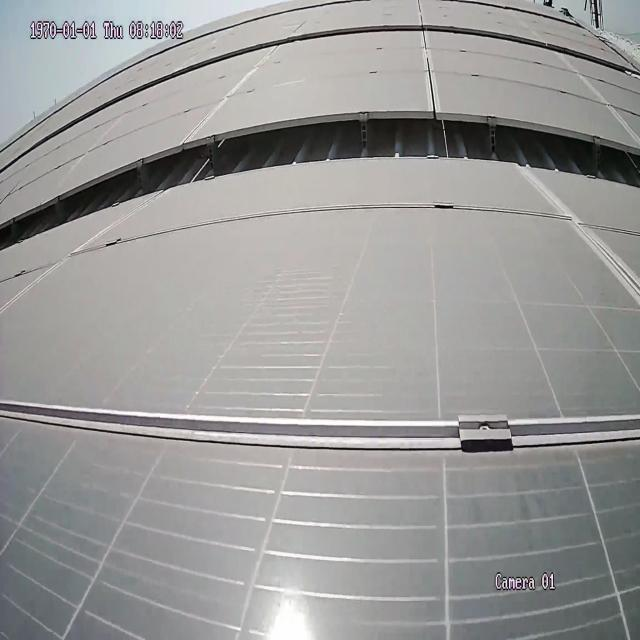interior panel: (2, 389, 637, 456)
outher panel: (3, 110, 638, 254)
